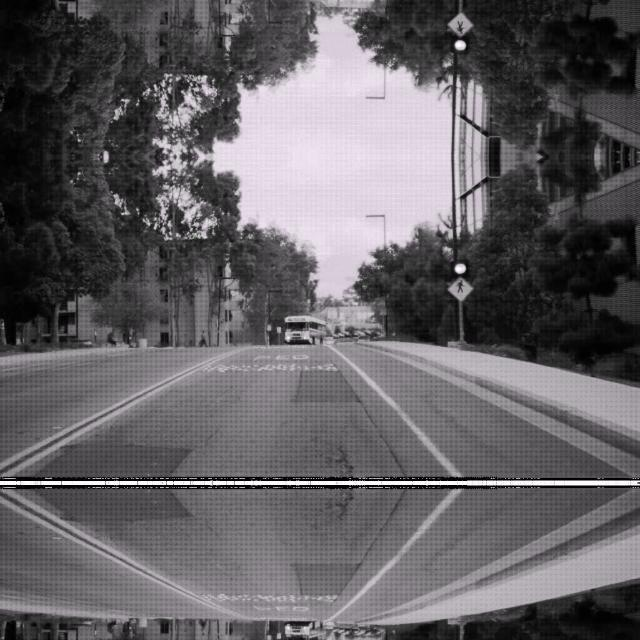pedestrianCrossing: (447, 275, 473, 301), (447, 11, 473, 37)
